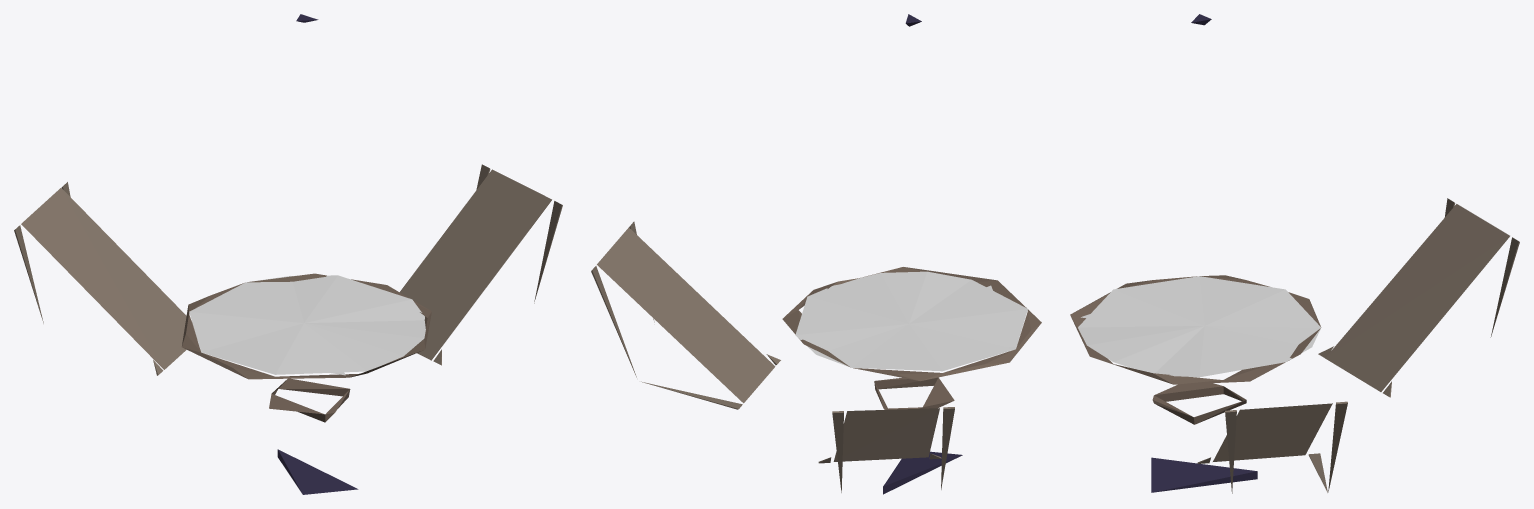
The model's file is patio-set.lod2.glb.
The picture shows the model from 3 angles, left to right: view 1: azimuth 30°, elevation 25°; view 2: azimuth 150°, elevation 25°; view 3: azimuth 270°, elevation 25°; orthographic projection.
Visible parts, largest first — view 1: Object_6; view 2: Object_6; view 3: Object_6.
Part boxes in pixels (box(x1,y1,x2,y2)): Object_6: box(14, 14, 562, 494); Object_6: box(591, 14, 1041, 494); Object_6: box(1070, 14, 1519, 493).
Size of the model in its own units: 1.98 by 1.99 by 1.77.
